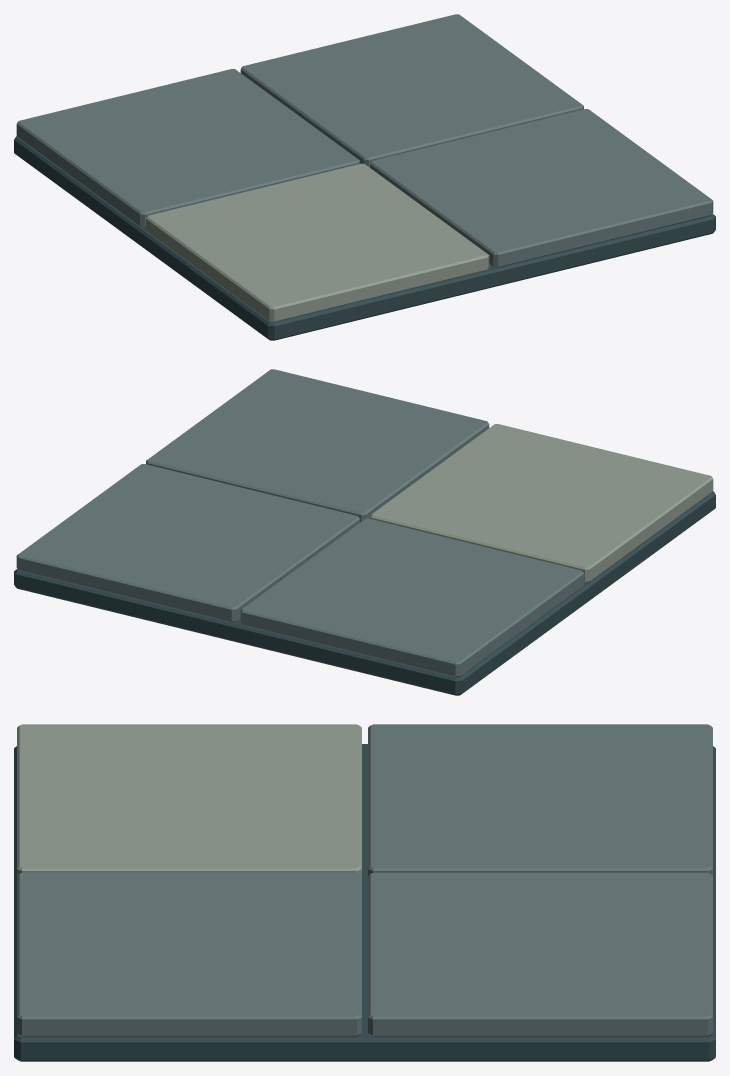
File: landing.glb
The picture shows the model from 3 angles, top to bottom: view 1: azimuth 30°, elevation 25°; view 2: azimuth 150°, elevation 25°; view 3: azimuth 270°, elevation 25°; orthographic projection. The views are drawn at different scales.
Parts seen in each view (by area): view 1: landing__body; view 2: landing__body; view 3: landing__body.
Boxes of the visible parts, <box> form: landing__body: <box>14,14,715,340</box>; landing__body: <box>14,369,715,695</box>; landing__body: <box>14,724,715,1061</box>.
Bounding box in the file's own units: 2 × 0.14 × 2.
